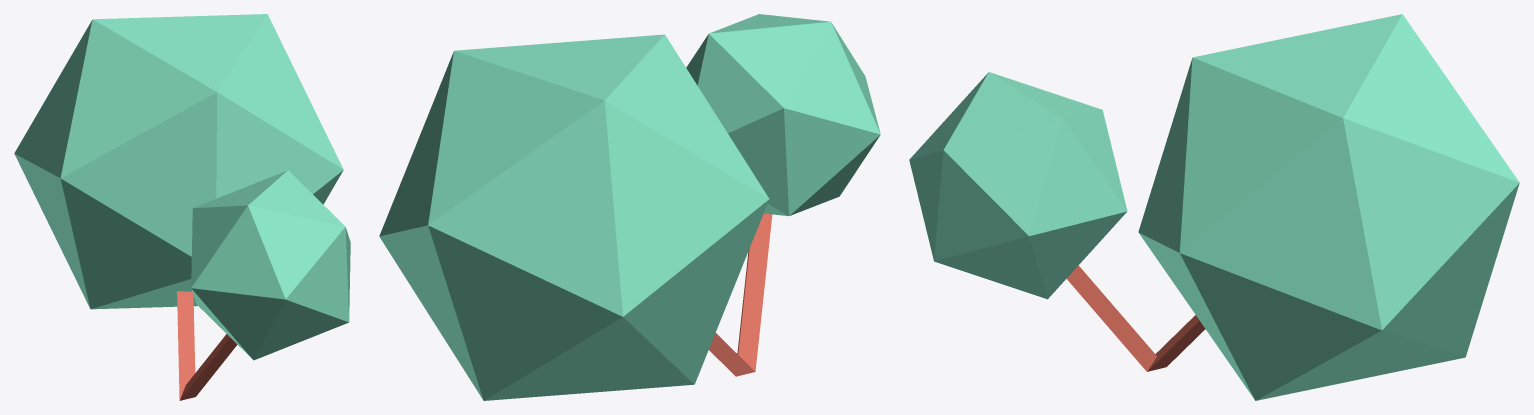
File: tree.dae
The picture shows the model from 3 angles, left to right: view 1: azimuth 30°, elevation 25°; view 2: azimuth 150°, elevation 25°; view 3: azimuth 270°, elevation 25°; orthographic projection. The views are drawn at different scales.
Visible parts, largest first — view 1: leaves, leaves.001, trunk, trunk.001; view 2: leaves, leaves.001, trunk.001, trunk; view 3: leaves, leaves.001, trunk.001, trunk.
Part boxes in pixels (x1,y1,x2,y2): leaves: (14, 14, 343, 309); leaves.001: (191, 170, 350, 360); trunk: (177, 291, 195, 399); trunk.001: (179, 334, 237, 400); leaves: (379, 34, 769, 400); leaves.001: (686, 14, 880, 216); trunk.001: (737, 213, 772, 371); trunk: (709, 333, 754, 376); leaves: (1138, 14, 1519, 400); leaves.001: (909, 72, 1127, 299); trunk.001: (1066, 265, 1156, 371); trunk: (1147, 315, 1205, 371).
Bounding box in the file's own units: 5.97 × 9.34 × 6.07.
